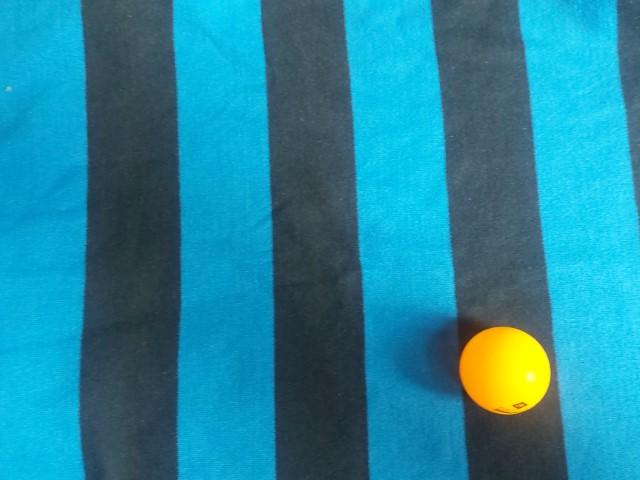oball: (80, 59, 188, 162)
